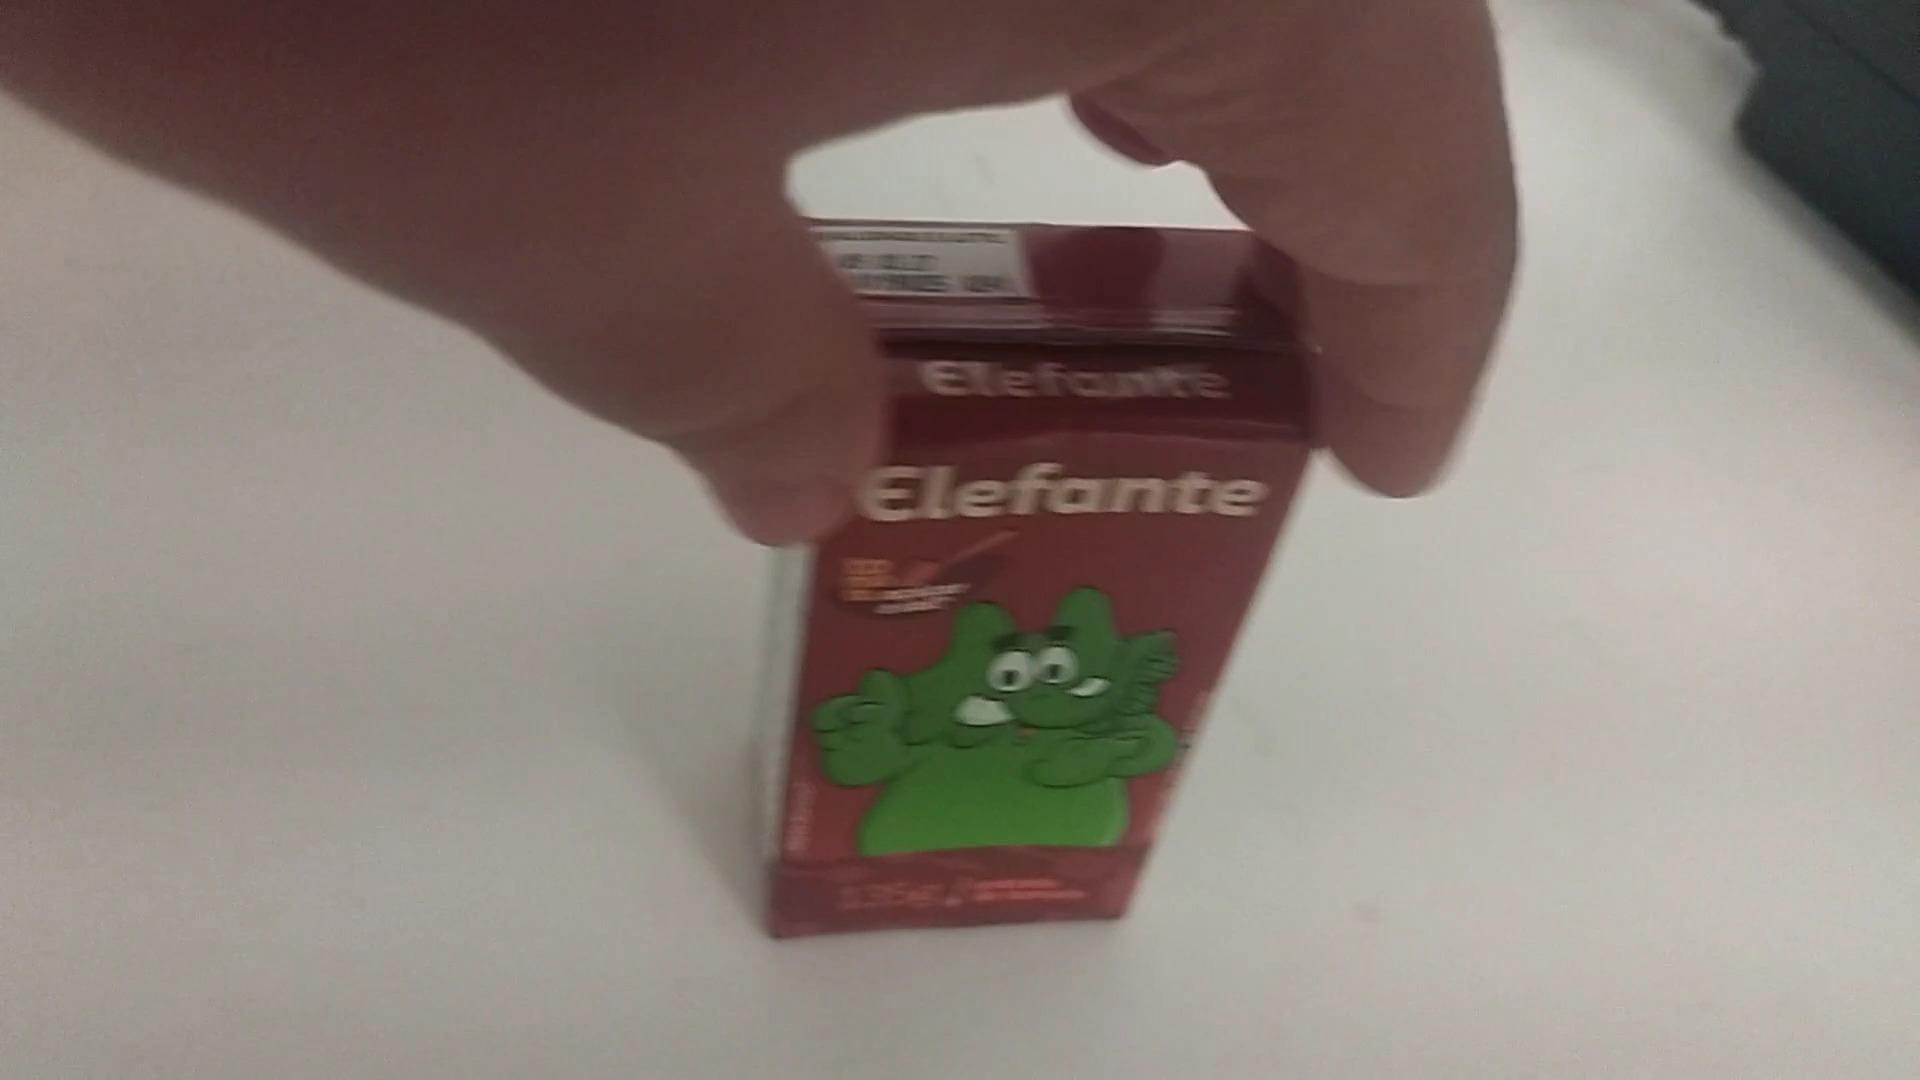tomate: (707, 182, 1386, 945)
